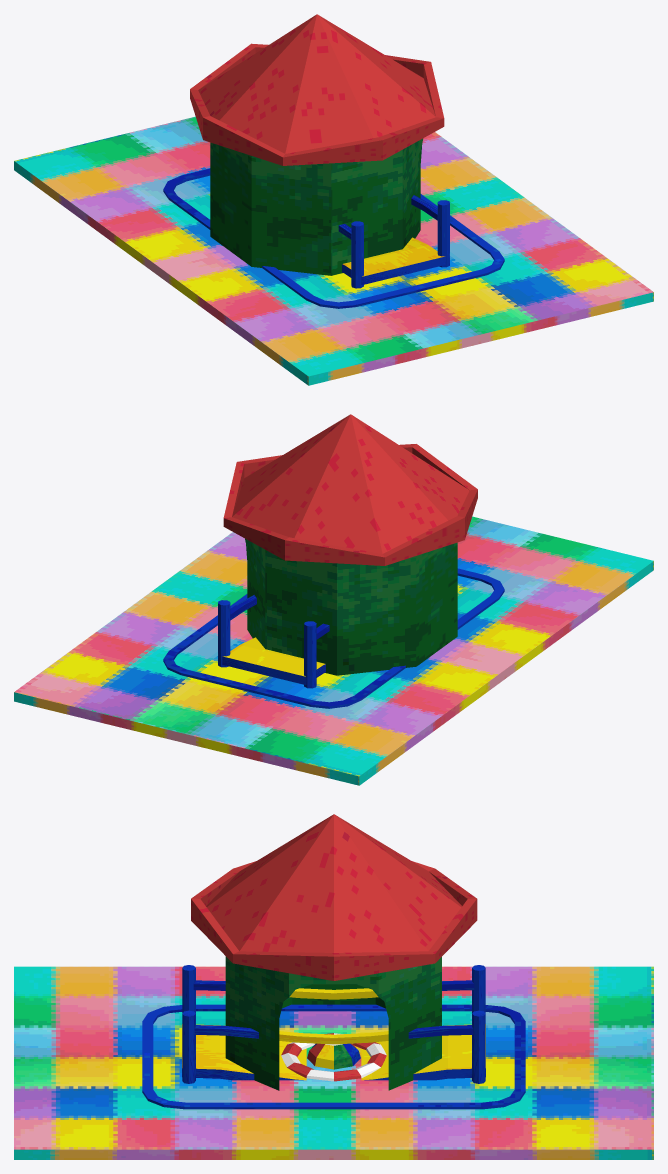
The model's file is NhaTre.fbx.
3 renders of one model, top to bottom at view 1: azimuth 30°, elevation 25°; view 2: azimuth 150°, elevation 25°; view 3: azimuth 270°, elevation 25°, orthographic. The views are drawn at different scales.
Parts seen in each view (by area): view 1: NenXopSacMau, NhaDoChoi, CauTreoDoChoi, BeBoi; view 2: NenXopSacMau, NhaDoChoi, CauTreoDoChoi, BeBoi; view 3: NenXopSacMau, NhaDoChoi, CauTreoDoChoi, BeBoi, PhaoBoi, BongBoi.
Boxes of the visible parts, x1,y1,x2,y2 form: NenXopSacMau: [14, 116, 653, 385]; NhaDoChoi: [190, 14, 444, 275]; CauTreoDoChoi: [338, 195, 449, 288]; BeBoi: [163, 168, 504, 308]; NenXopSacMau: [14, 516, 653, 785]; NhaDoChoi: [223, 414, 477, 675]; CauTreoDoChoi: [218, 595, 329, 688]; BeBoi: [163, 568, 504, 708]; NenXopSacMau: [14, 966, 653, 1159]; NhaDoChoi: [191, 814, 477, 1090]; CauTreoDoChoi: [182, 965, 485, 1083]; BeBoi: [142, 1004, 525, 1109]; PhaoBoi: [281, 1033, 386, 1081]; BongBoi: [307, 1043, 360, 1069].
Bounding box in the file's own units: 572 × 395 × 845.
1 material, 1 textured.
